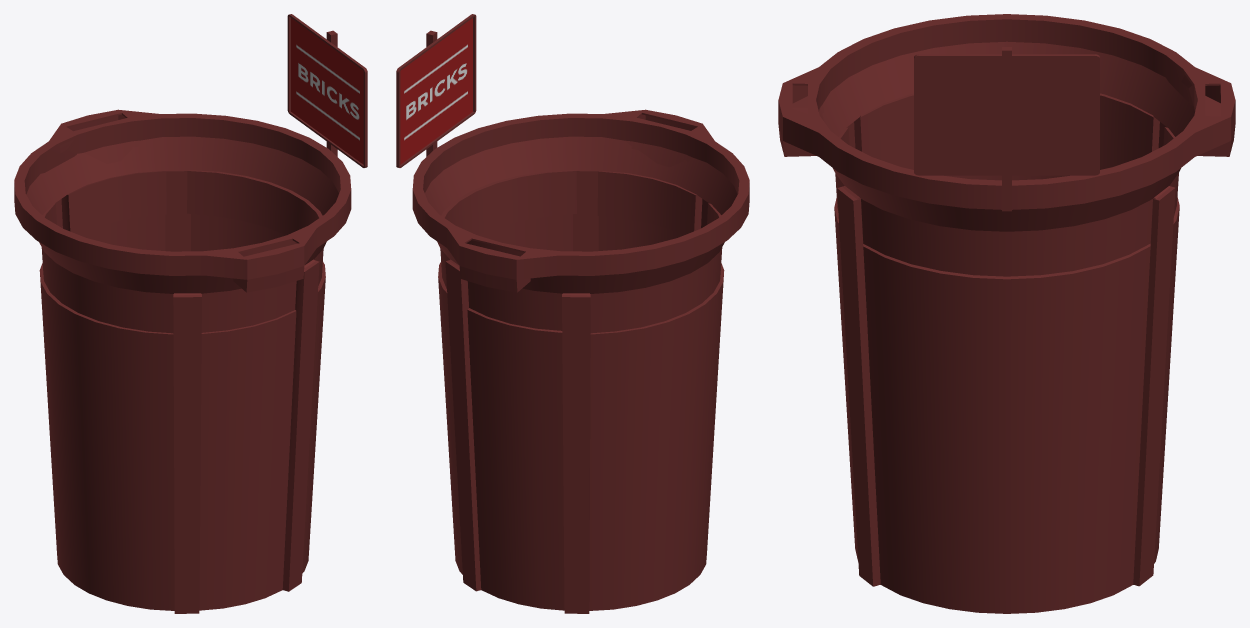
The model's file is BrickTrashCan.fbx.
3 renders of one model, left to right at view 1: azimuth 30°, elevation 25°; view 2: azimuth 150°, elevation 25°; view 3: azimuth 270°, elevation 25°, orthographic. The views are drawn at different scales.
Visible parts, largest first — view 1: Cylinder, Cube.001; view 2: Cylinder, Cube.001; view 3: Cylinder, Cube.001, Cube.
Boxes of the visible parts, left/top/right/bottom form: Cylinder: left=14, top=109, right=351, bottom=613; Cube.001: left=287, top=14, right=367, bottom=167; Cylinder: left=412, top=109, right=749, bottom=613; Cube.001: left=396, top=14, right=476, bottom=167; Cylinder: left=778, top=14, right=1235, bottom=613; Cube.001: left=914, top=54, right=1099, bottom=175; Cube: left=1002, top=47, right=1011, bottom=211.
Size of the model in its own units: 603 by 942 by 662.
Materials: 2 (1 with a texture image).
